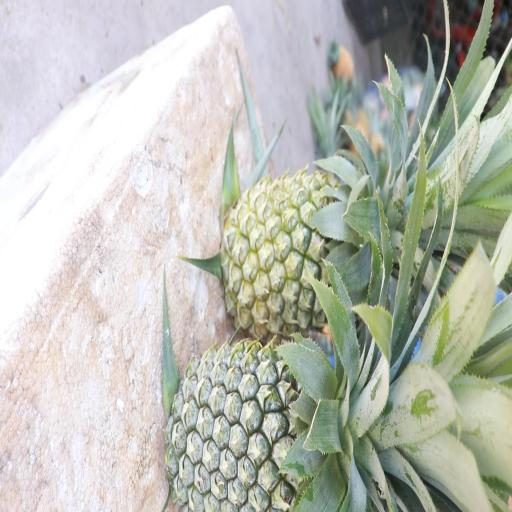Pineapple - v8 v1: (223, 168, 407, 340)
